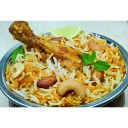briyani: (8, 21, 126, 99)
